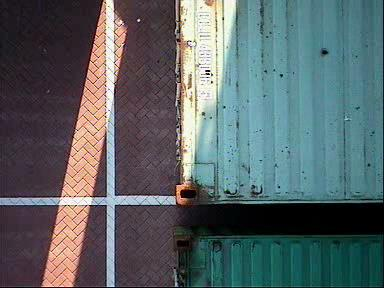groundmarker_2: (1, 58, 117, 135)
